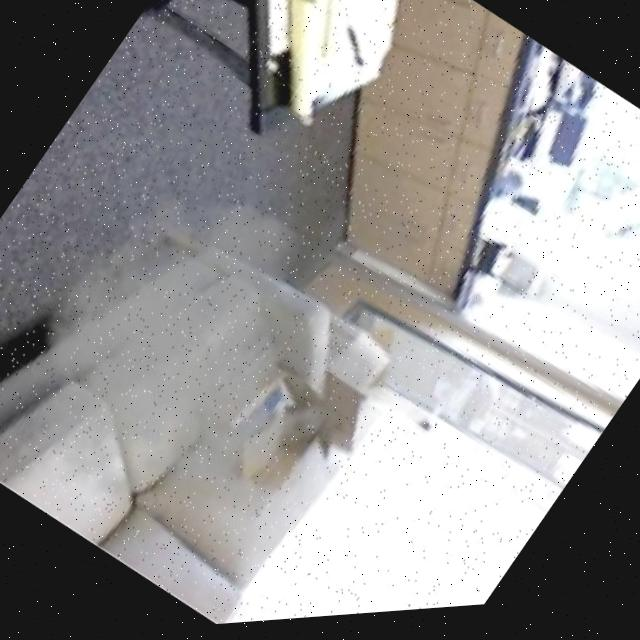Smoke: (1, 129, 484, 623)
